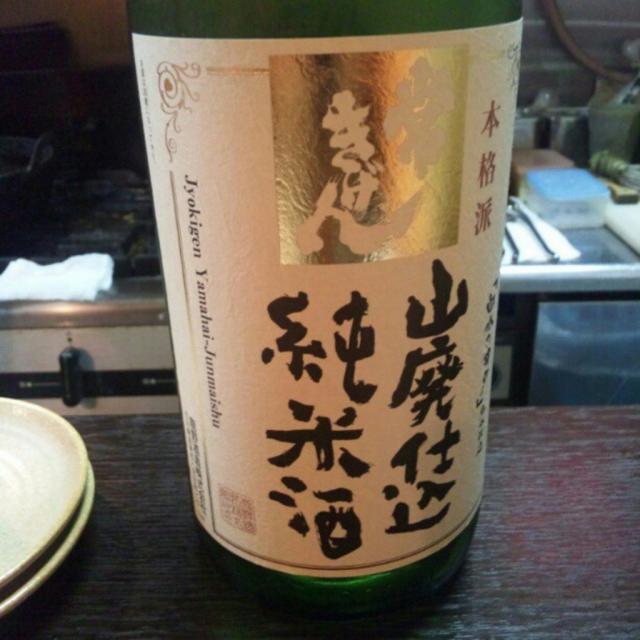non-organic waste: (0, 359, 111, 640)
